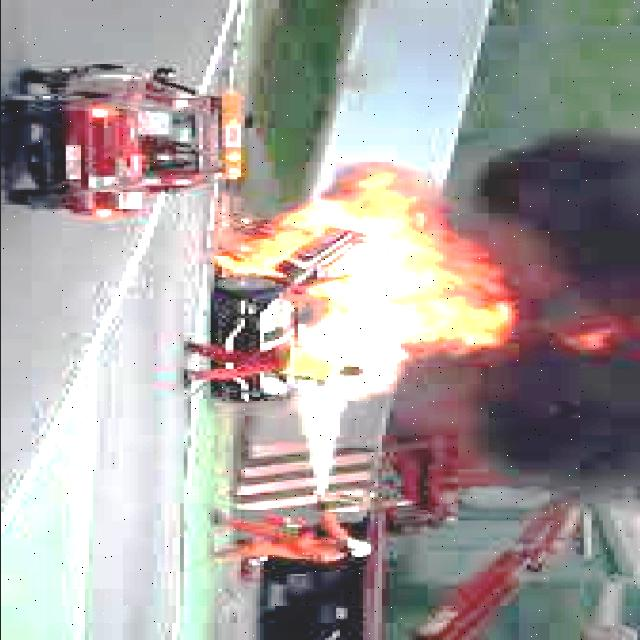api: (245, 157, 519, 368)
